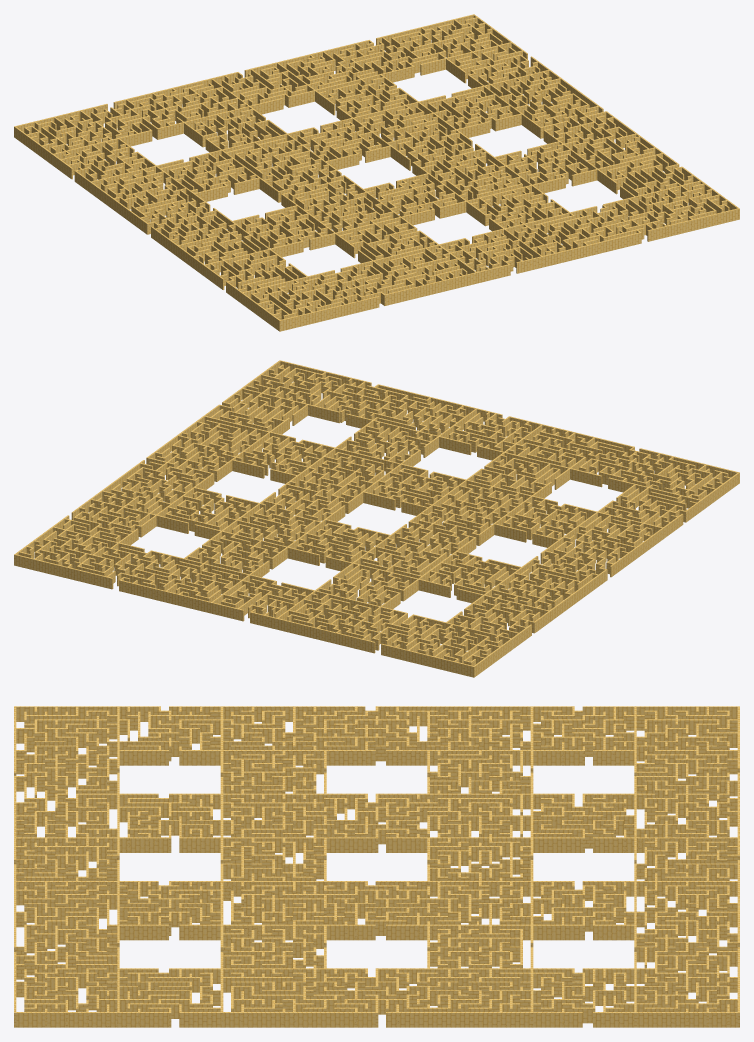
File: maze01.fbx
3 renders of one model, top to bottom at view 1: azimuth 30°, elevation 25°; view 2: azimuth 150°, elevation 25°; view 3: azimuth 270°, elevation 25°, orthographic. The views are drawn at different scales.
Parts seen in each view (by area): view 1: line1135; view 2: line1135; view 3: line1135.
Boxes of the visible parts, bbox=[...] form: line1135: bbox=[14, 14, 739, 331]; line1135: bbox=[14, 360, 739, 677]; line1135: bbox=[14, 706, 739, 1027].
Size of the model in its own units: 27382 by 614 by 27386.
Materials: 1 (1 with a texture image).
